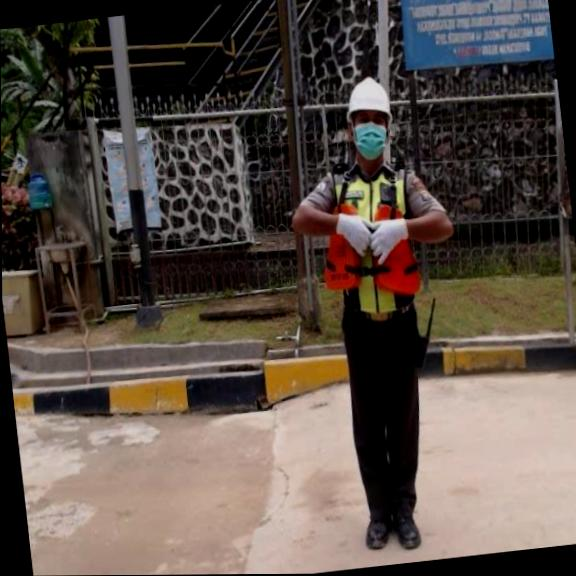safety_vest: (313, 194, 425, 307)
